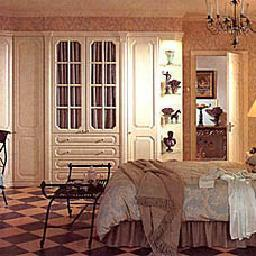Armario: (48, 36, 124, 167)
Cama: (109, 159, 248, 245)
Puerta: (226, 53, 245, 158)
